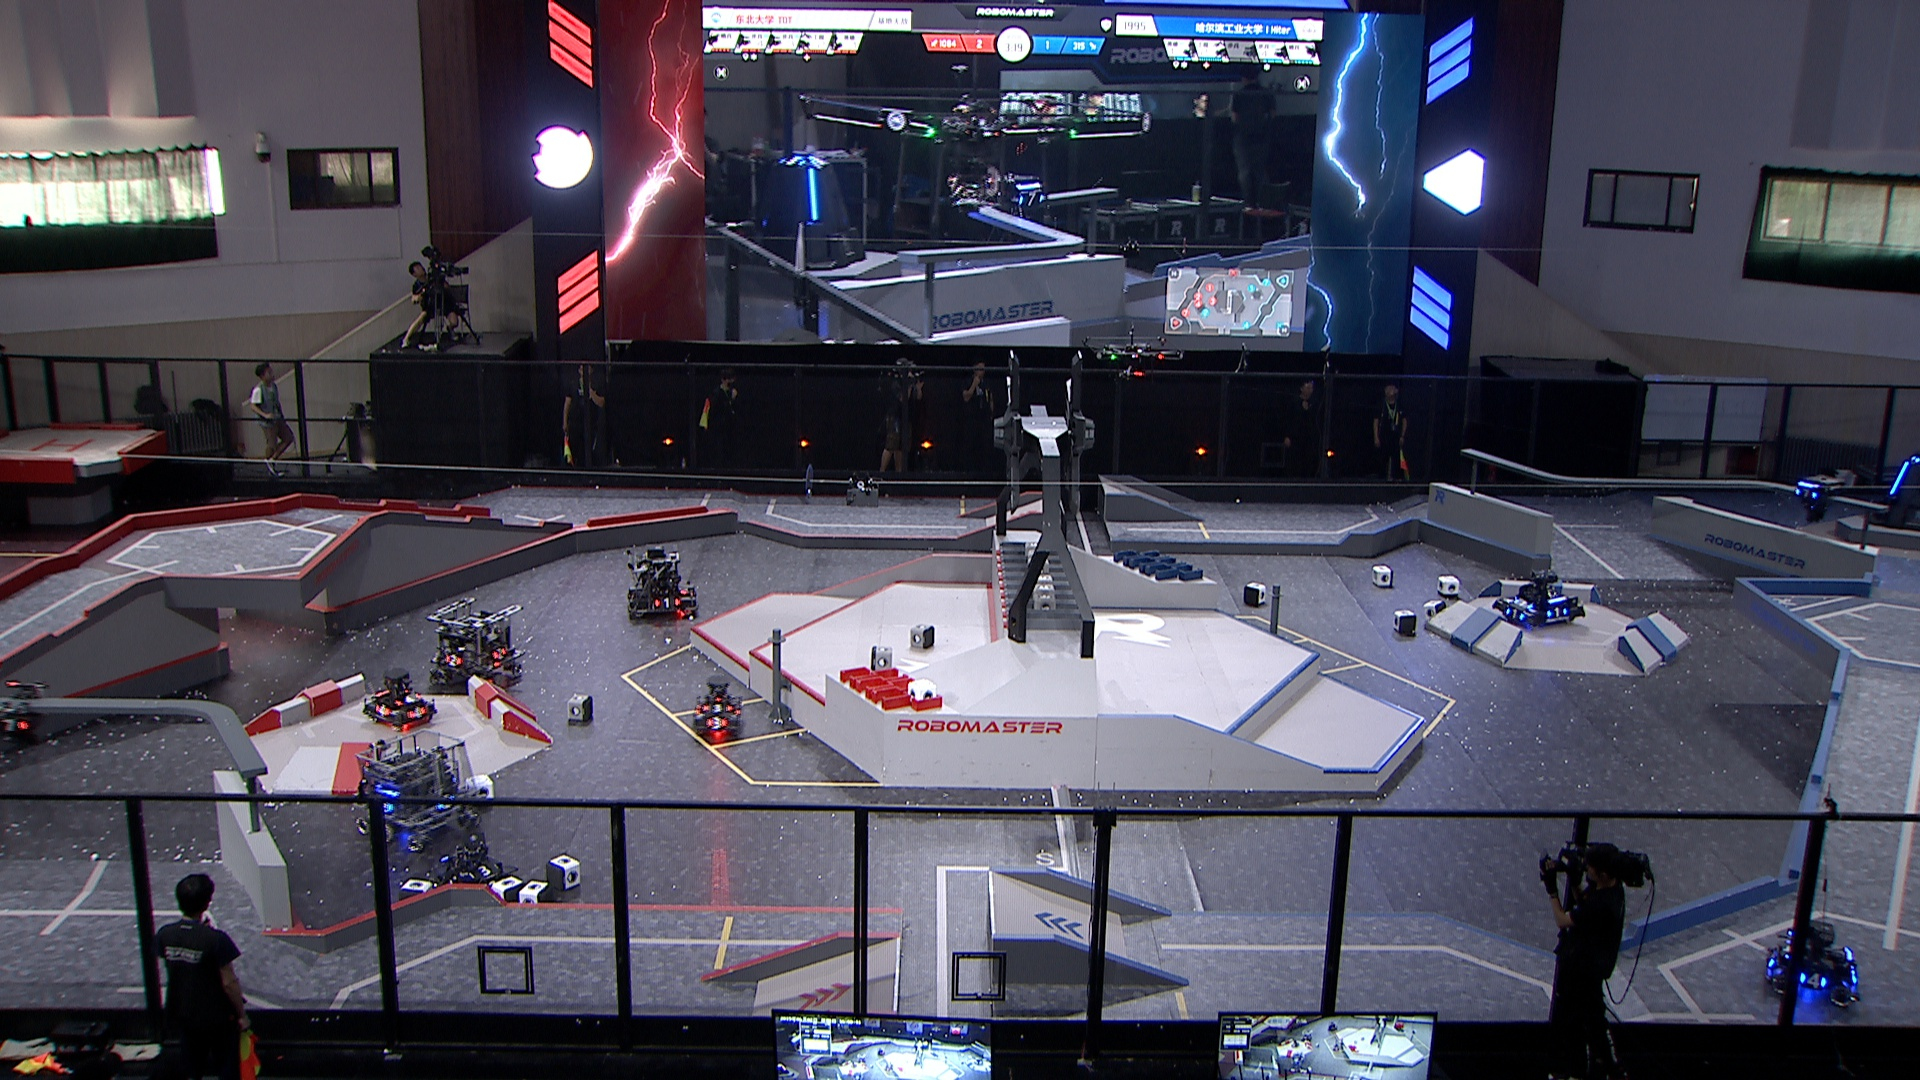armor: (1887, 462, 1909, 496), (469, 860, 496, 884), (1799, 971, 1826, 989), (1, 713, 24, 735), (436, 793, 462, 811), (392, 692, 425, 703), (1793, 485, 1817, 498), (654, 597, 680, 609), (703, 717, 727, 731), (371, 702, 392, 716), (1514, 599, 1534, 613), (1782, 938, 1795, 959), (1505, 607, 1522, 622), (1548, 607, 1567, 621), (704, 702, 727, 713), (406, 705, 429, 717), (440, 651, 460, 665), (495, 646, 506, 659), (678, 584, 692, 595)
base: (1873, 454, 1920, 527)
car: (353, 728, 484, 843), (425, 591, 531, 692), (1760, 916, 1869, 1011), (1494, 564, 1589, 633), (425, 832, 514, 901), (622, 547, 698, 622), (357, 665, 433, 731), (688, 675, 746, 741)
ignore: (752, 153, 865, 277), (997, 167, 1058, 225)
watcher: (1789, 469, 1841, 526)
